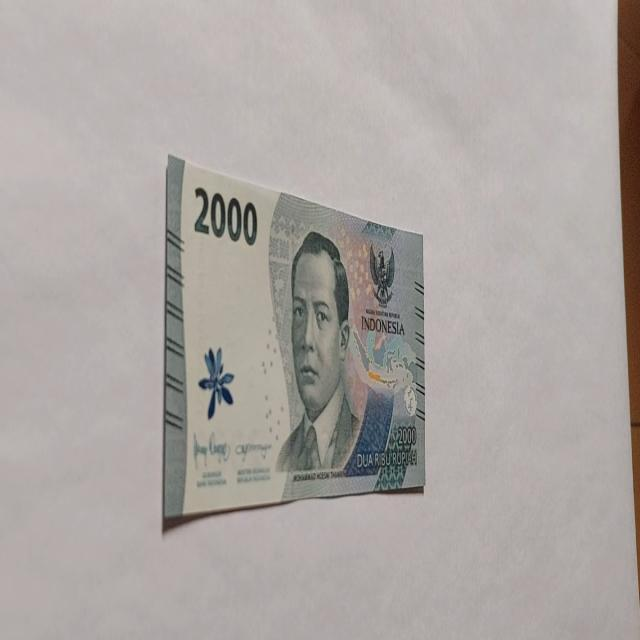dua ribu rupiah: (162, 152, 426, 530), (275, 228, 363, 478)
